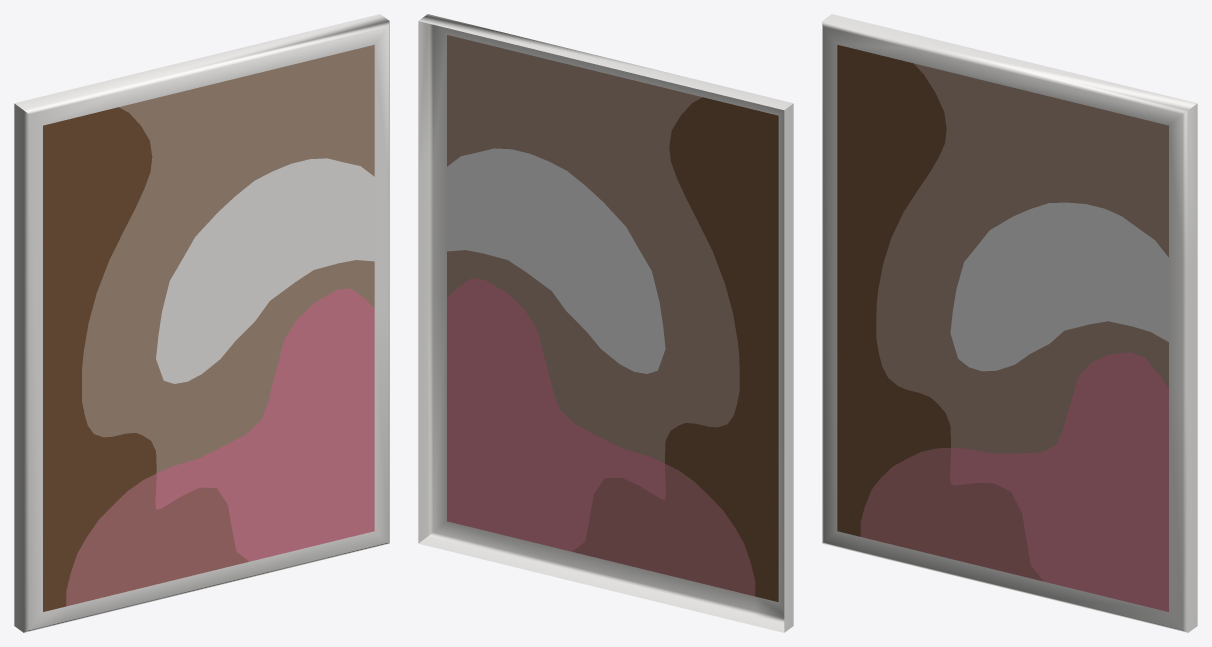
File: Painting_5.glb
3 renders of one model, left to right at view 1: azimuth 30°, elevation 25°; view 2: azimuth 150°, elevation 25°; view 3: azimuth 330°, elevation 25°, orthographic.
Parts seen in each view (by area): view 1: Painting_5; view 2: Painting_5; view 3: Painting_5.
Boxes of the visible parts, x1,y1,x2,y2 form: Painting_5: (14,14,389,632); Painting_5: (418,14,793,632); Painting_5: (822,14,1197,632).
Size of the model in its own units: 0.6566 by 0.8961 by 0.036.
1 material, 1 textured.
